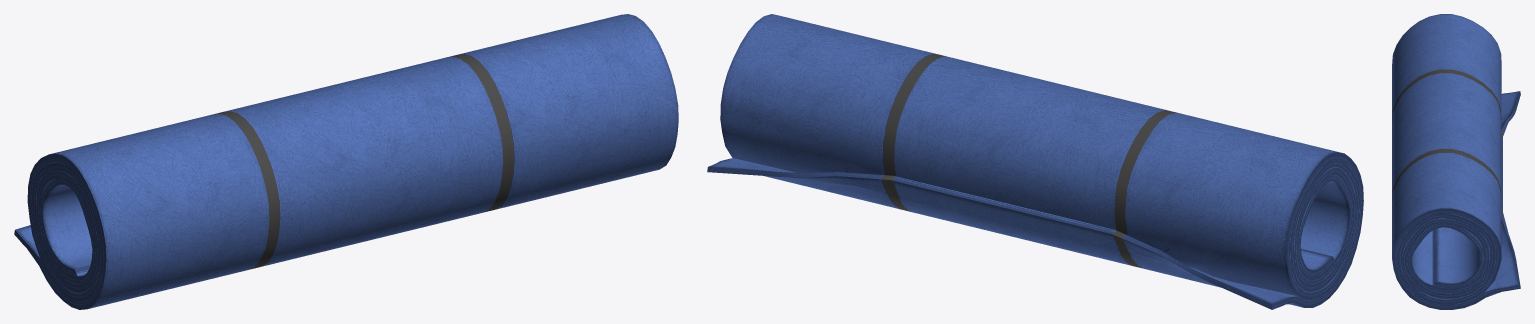
Rendered from SM_YogaMat.fbx.
The picture shows the model from 3 angles, left to right: view 1: azimuth 30°, elevation 25°; view 2: azimuth 150°, elevation 25°; view 3: azimuth 270°, elevation 25°; orthographic projection. The views are drawn at different scales.
Parts seen in each view (by area): view 1: SM_YogaMat_LOD0; view 2: SM_YogaMat_LOD0; view 3: SM_YogaMat_LOD0.
Boxes of the visible parts, x1,y1,x2,y2 form: SM_YogaMat_LOD0: (14, 14, 678, 309); SM_YogaMat_LOD0: (707, 14, 1363, 309); SM_YogaMat_LOD0: (1392, 14, 1520, 309).
Size of the model in its own units: 150 by 41.94 by 36.47.
